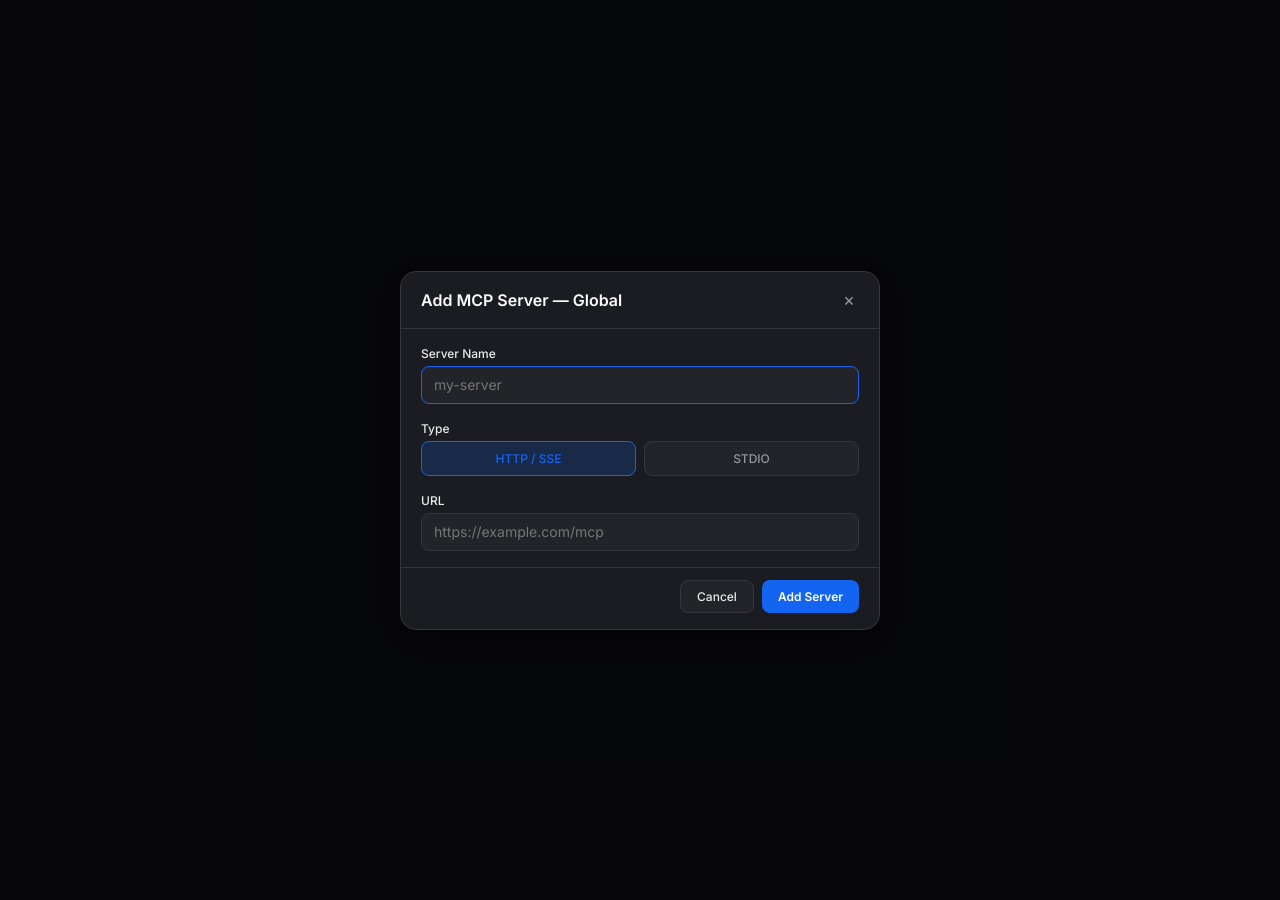
AddServerForm › switches back to HTTP fields
Step 1. Click the button "STDIO" → [752, 458], box x1=644 y1=440 x2=859 y2=476
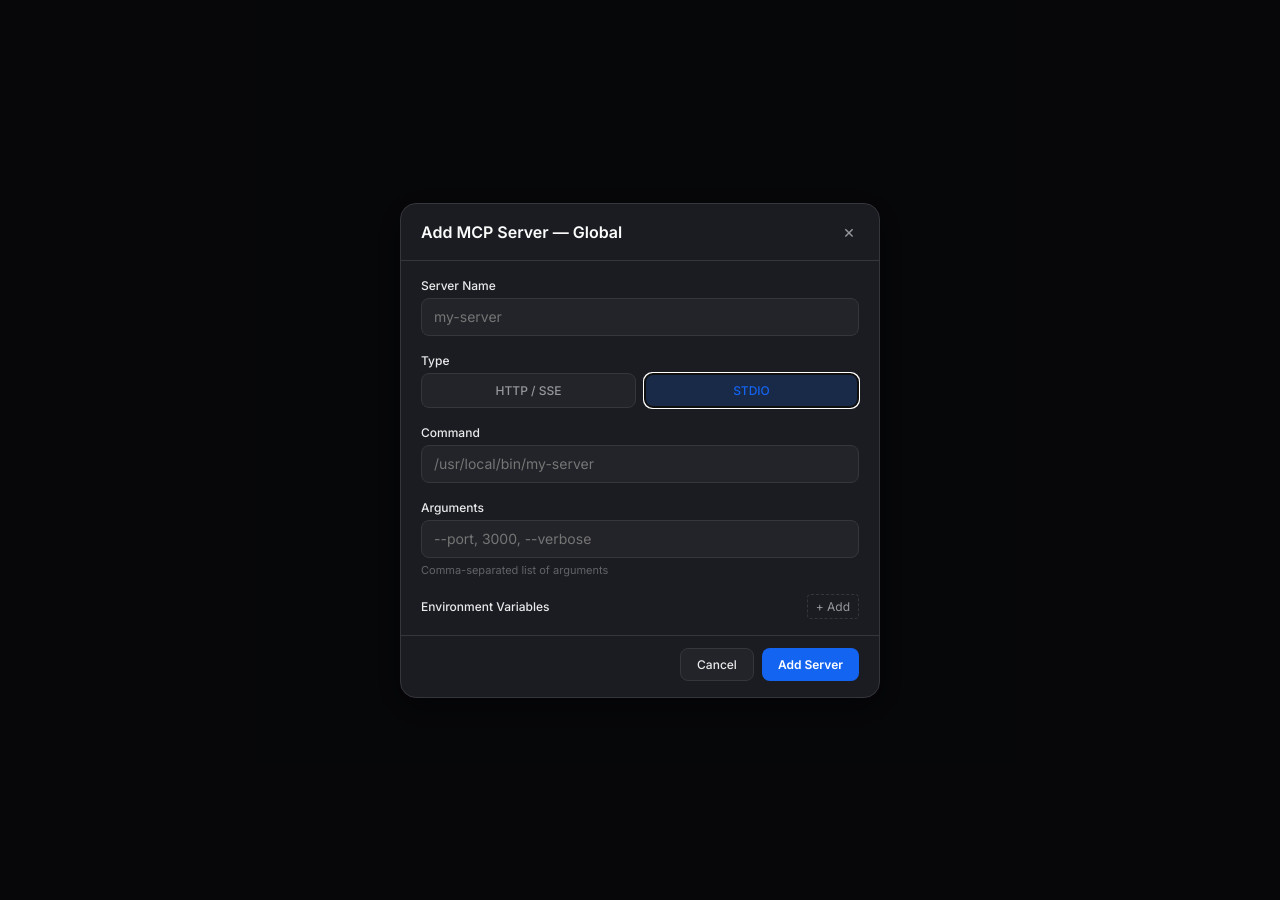
Step 2. Click the button "HTTP / SSE" → [528, 390], box x1=421 y1=372 x2=636 y2=408
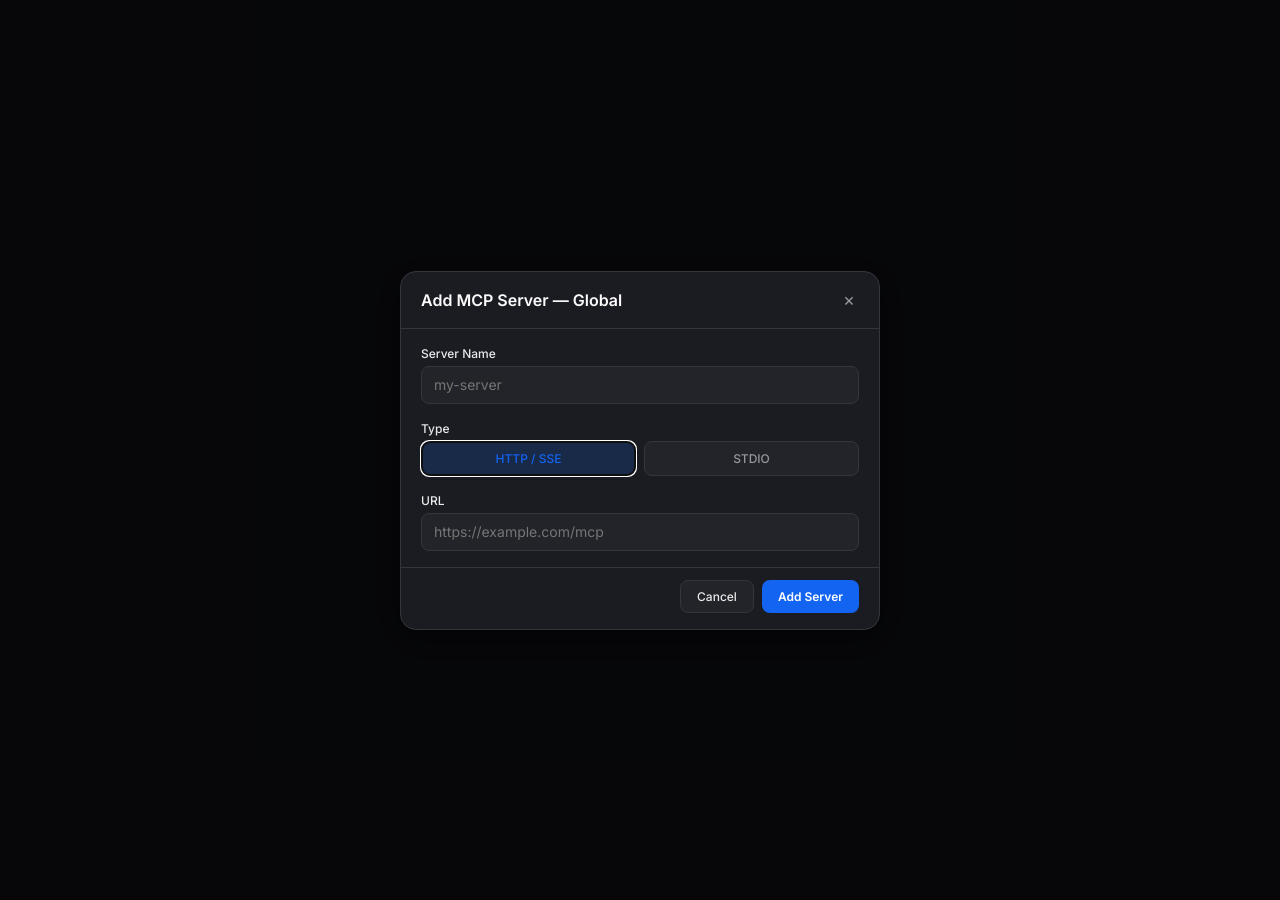
Now the field with placeholder "https://example.com/mcp" is shown, box x1=421 y1=512 x2=859 y2=550
